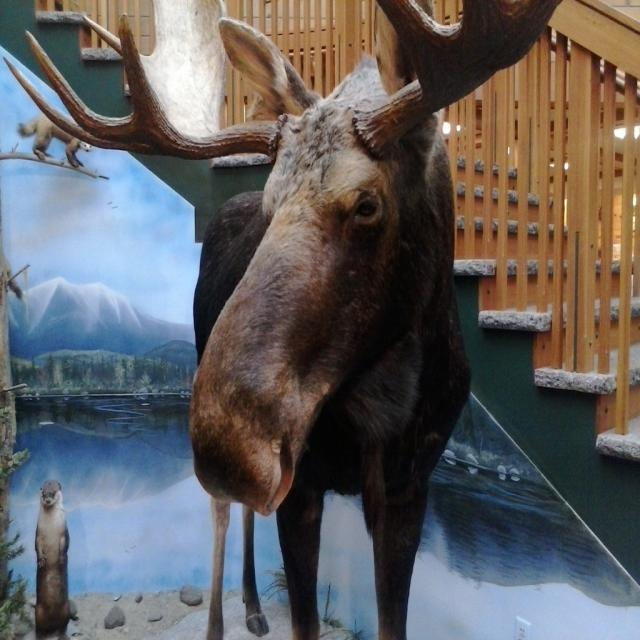Deer: (3, 0, 563, 639)
